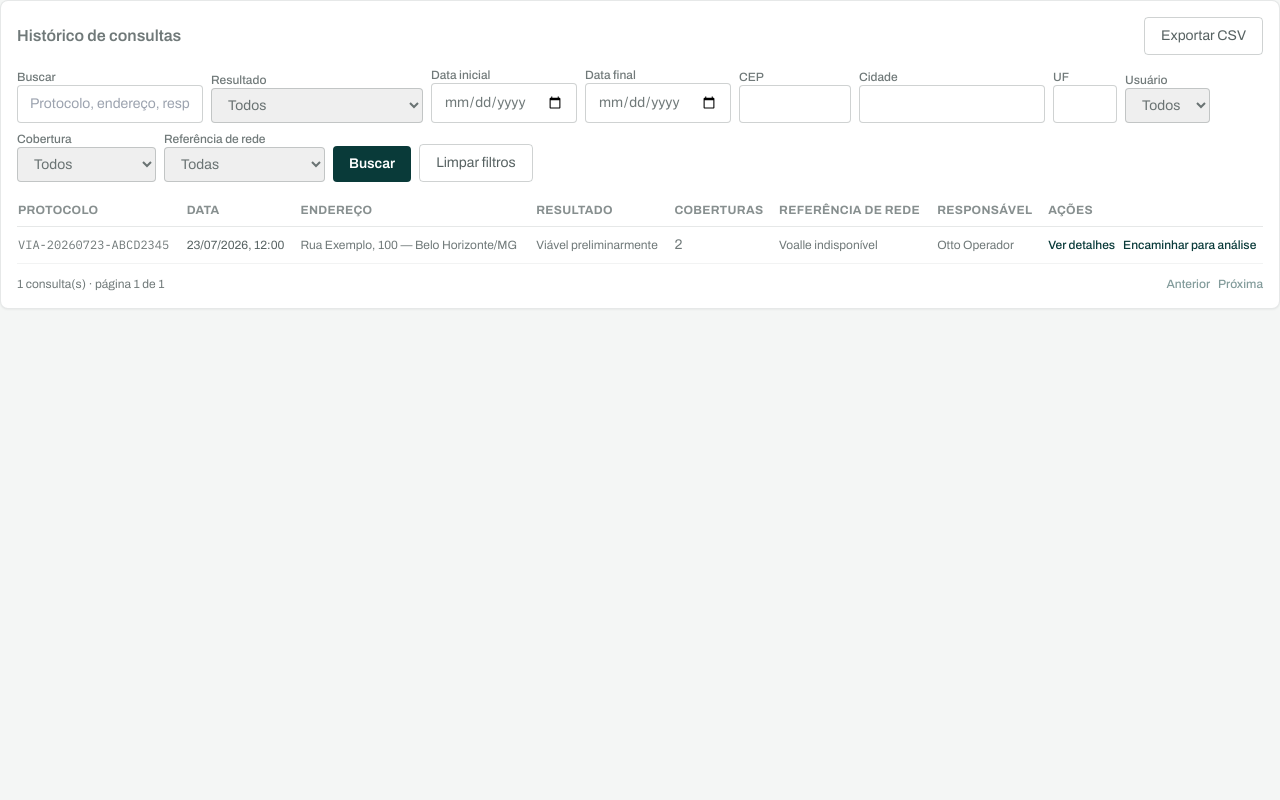
diálogos de análise técnica no Histórico › Encaminhar para análise abre o ReviewCreateDialog; criar preserva o reviewId e permite abrir os detalhes
This screenshot has width=1280, height=800.
Click the button "Encaminhar para análise".
click(1190, 245)  # box [1123, 237, 1256, 253]
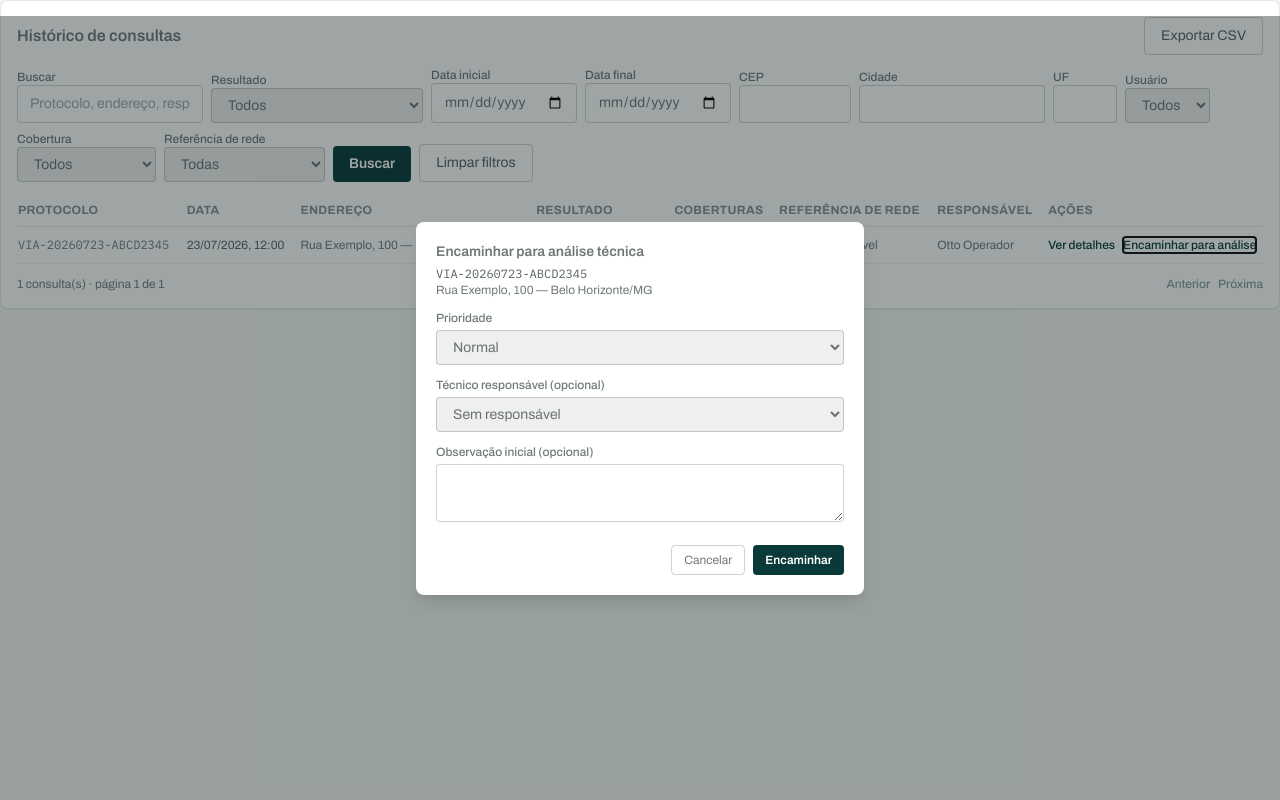
Note: o formulário abre:
Click the button "Encaminhar".
click(799, 560)  # box [753, 544, 844, 574]
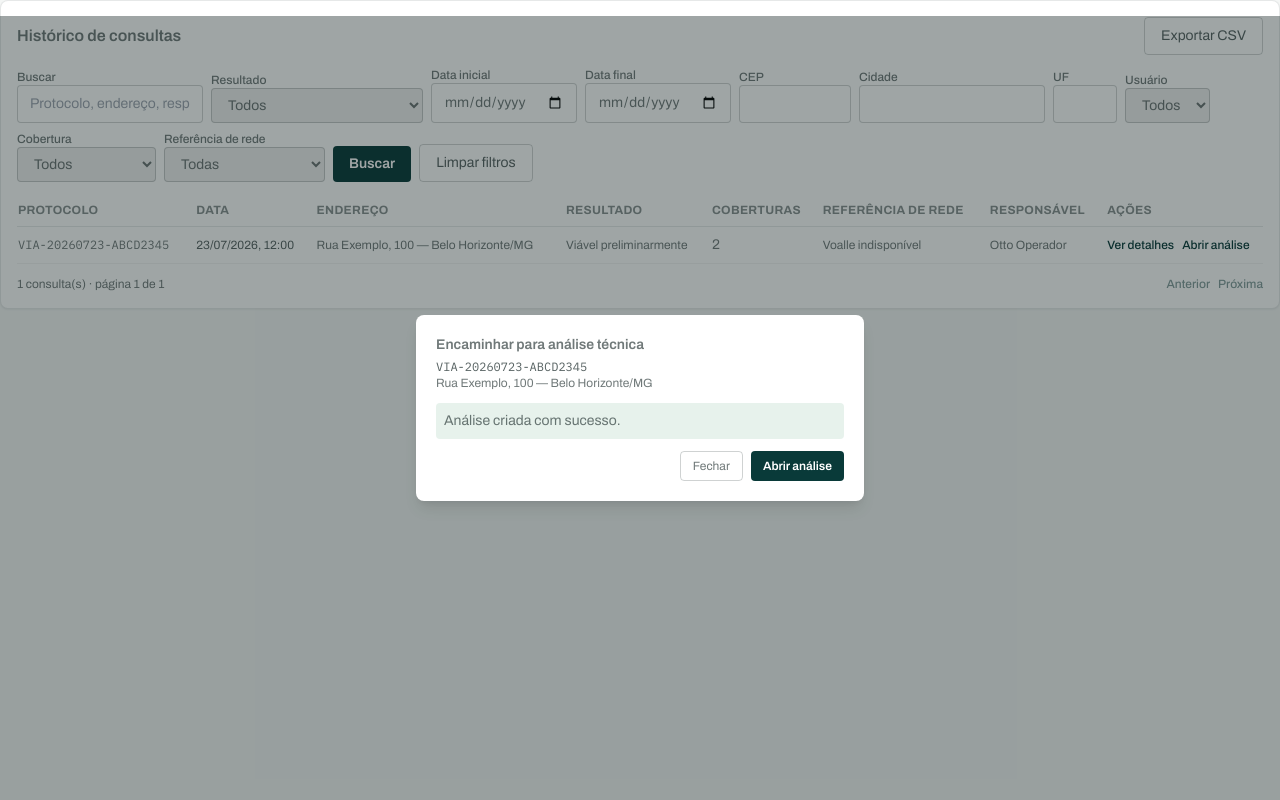
Check: the text "Análise criada com sucesso." is shown, box [436, 403, 844, 439]
Note: abrir imediatamente pelos detalhes a partir do próprio formulário:
Click the button "Abrir análise".
click(797, 466)  # box [751, 451, 844, 481]
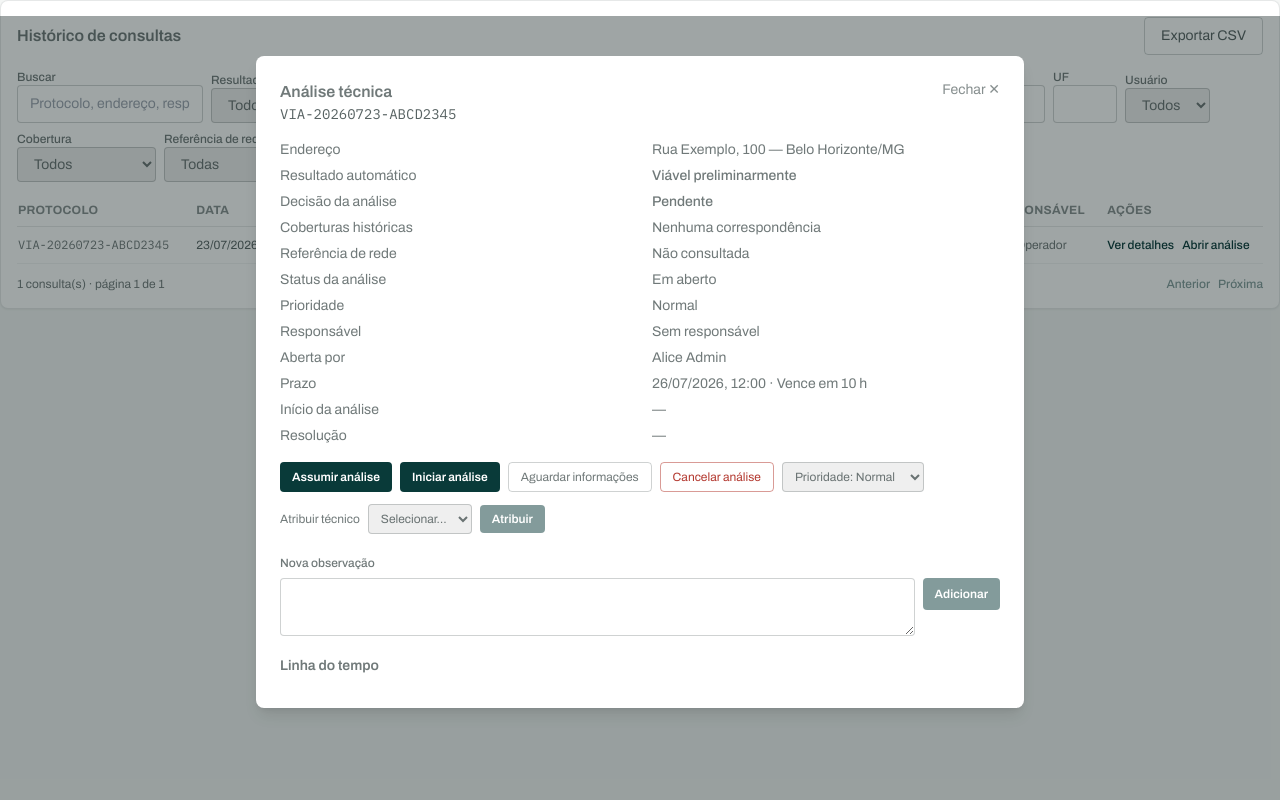
Check: the dialog named "Detalhes da análise VIA-20260723-ABCD2345" is shown
Check: the heading "Encaminhar para análise" is gone
Check: the heading "Linha do tempo" is shown, box [280, 658, 379, 673]
